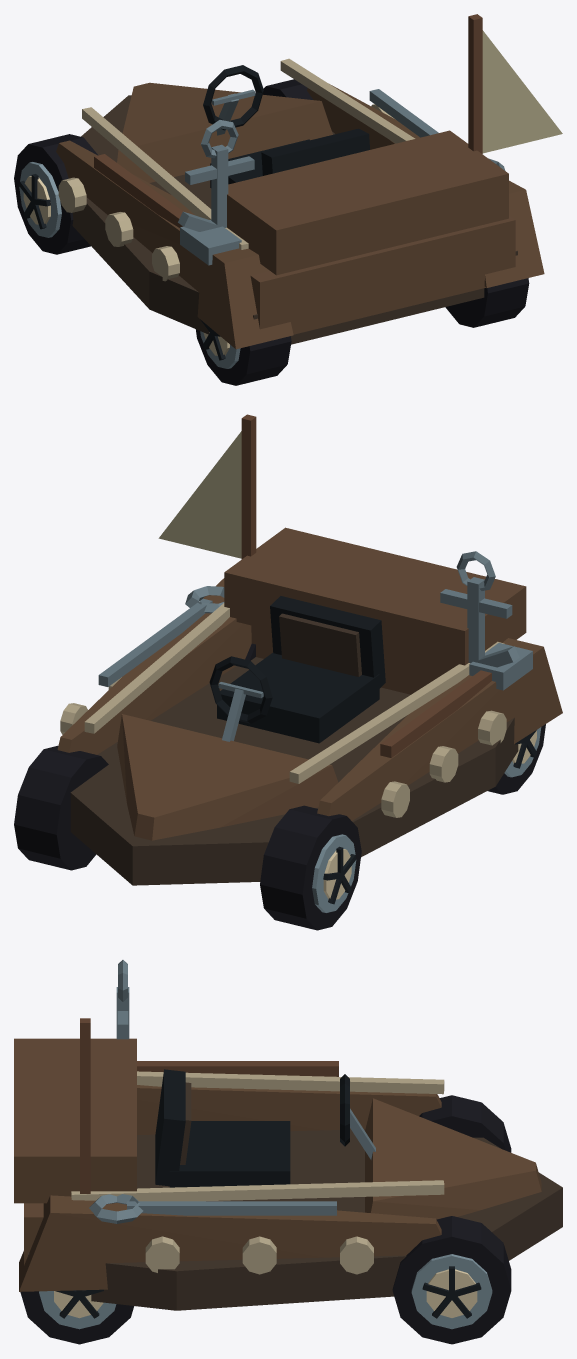
File: kart.glb
3 views of the same model, one above another, from view 1: azimuth 30°, elevation 25°; view 2: azimuth 150°, elevation 25°; view 3: azimuth 270°, elevation 25° (orthographic). The views are drawn at different scales.
Parts seen in each view (by area): view 1: identity-ship-ship-pointed-bow-and-raised-stern, identity-ship-motif-sail, wheel-front-left, identity-ship-driver-cockpit, identity-ship-motif-tools, wheel-rear-left, identity-ship-motif-anchor, wheel-rear-right, wheel-front-right; view 2: identity-ship-ship-pointed-bow-and-raised-stern, identity-ship-driver-cockpit, wheel-front-left, identity-ship-motif-sail, wheel-front-right, identity-ship-motif-tools, identity-ship-motif-anchor, wheel-rear-left; view 3: identity-ship-ship-pointed-bow-and-raised-stern, identity-ship-driver-cockpit, wheel-front-right, identity-ship-motif-tools, wheel-rear-right, wheel-front-left, identity-ship-motif-sail, identity-ship-motif-anchor.
Part boxes in pixels (x1,y1,x2,y2): identity-ship-ship-pointed-bow-and-raised-stern: (56, 58, 544, 349); identity-ship-motif-sail: (468, 14, 562, 153); wheel-front-left: (14, 134, 98, 254); identity-ship-driver-cockpit: (203, 65, 369, 187); identity-ship-motif-tools: (94, 89, 505, 265); wheel-rear-left: (196, 319, 291, 385); identity-ship-motif-anchor: (178, 120, 254, 231); wheel-rear-right: (445, 278, 529, 327); wheel-front-right: (263, 79, 312, 99); identity-ship-ship-pointed-bow-and-raised-stern: (57, 527, 562, 885); identity-ship-driver-cockpit: (209, 596, 385, 743); wheel-front-left: (260, 805, 361, 930); identity-ship-motif-sail: (158, 414, 256, 559); wheel-front-right: (14, 745, 108, 870); identity-ship-motif-tools: (98, 586, 532, 757); identity-ship-motif-anchor: (440, 551, 519, 667); wheel-rear-left: (488, 724, 545, 794); identity-ship-ship-pointed-bow-and-raised-stern: (14, 1038, 562, 1310); identity-ship-driver-cockpit: (155, 1069, 375, 1187); wheel-front-right: (392, 1216, 511, 1344); identity-ship-motif-tools: (89, 1061, 338, 1223); wheel-rear-right: (20, 1289, 134, 1344); wheel-front-left: (419, 1095, 511, 1152); identity-ship-motif-sail: (80, 1018, 90, 1193); identity-ship-motif-anchor: (116, 960, 129, 1039).
Size of the model in its own units: 2.24 by 1.74 by 2.77.
